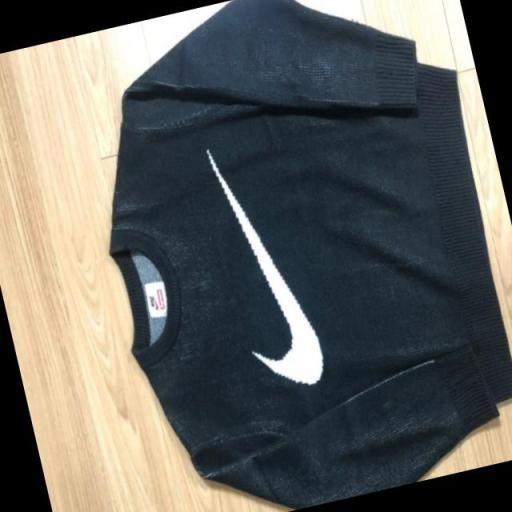Nike: (196, 124, 346, 407)
